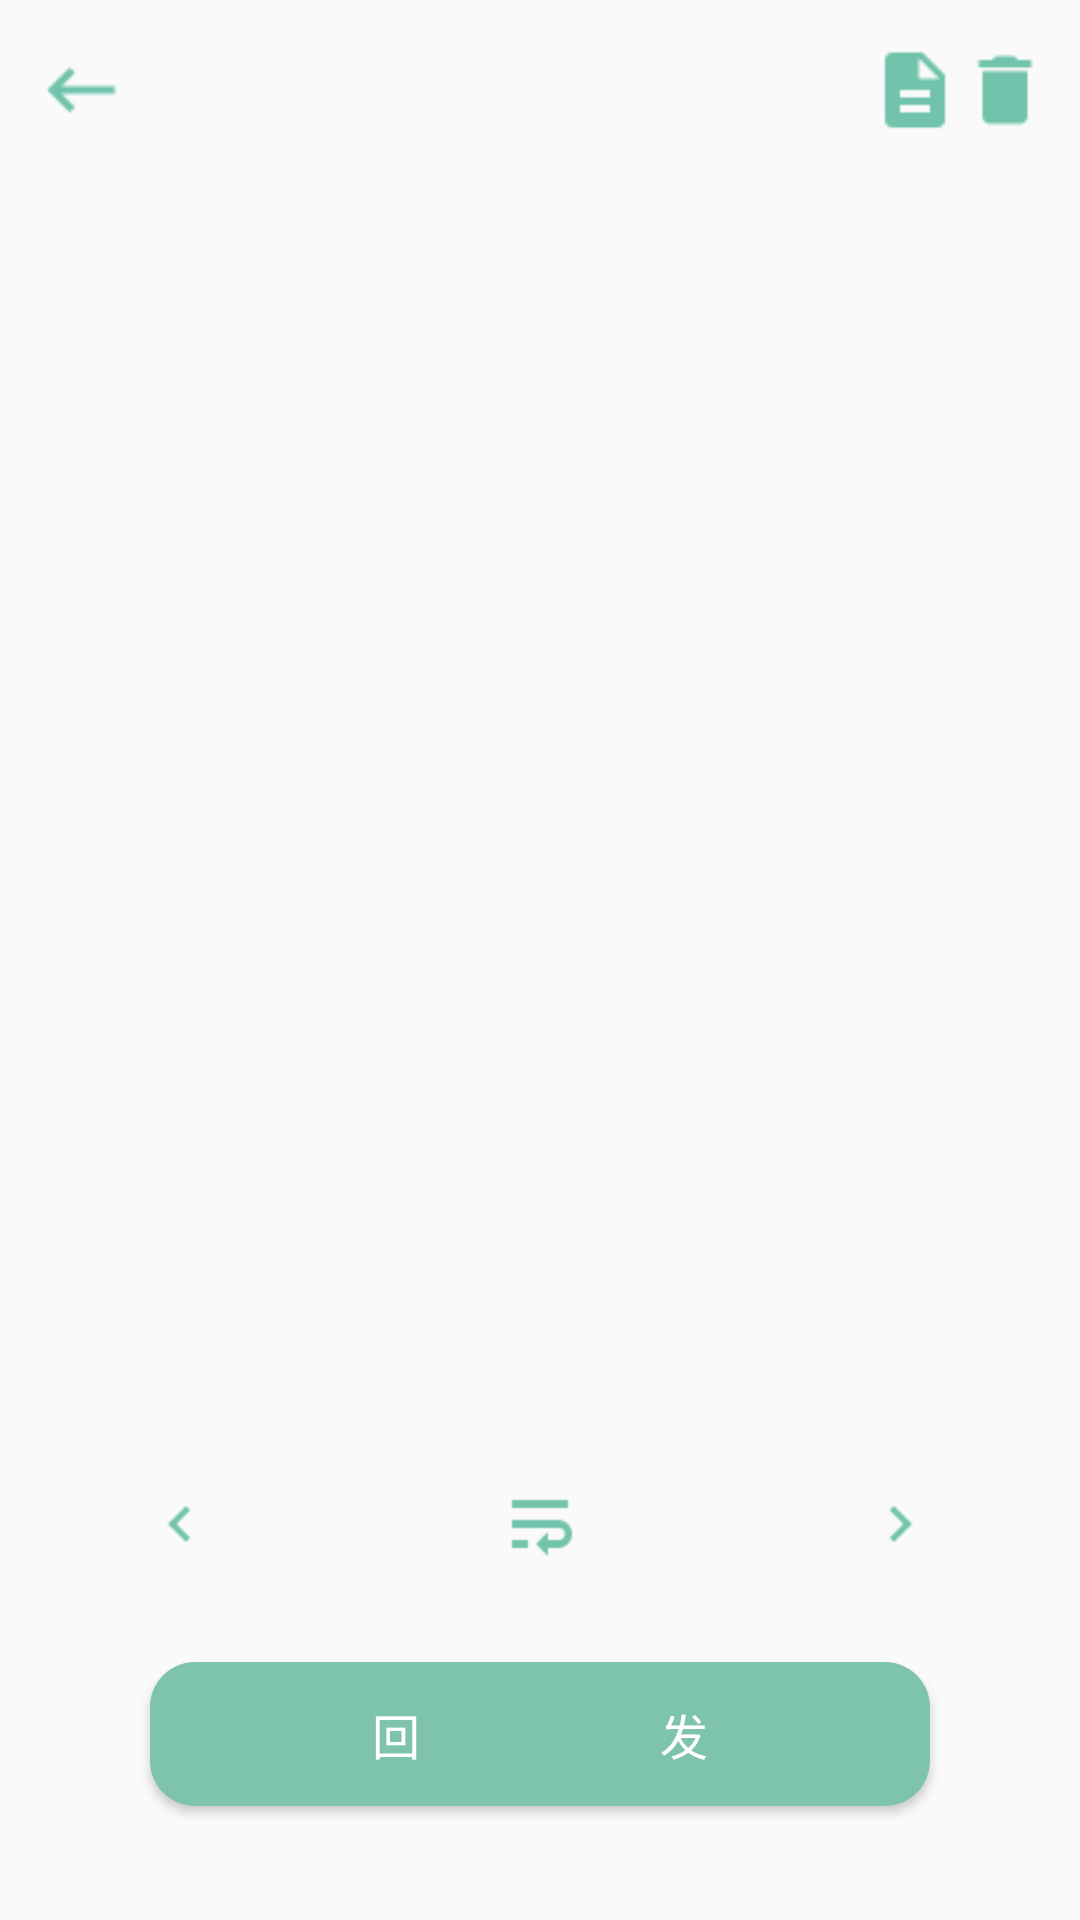

Where icons sit on this 1080 x 1920 app screen, as rect(x1, y1, x2, y2):
back: rect(47, 67, 116, 113)
left: rect(168, 1506, 190, 1542)
one show del: rect(977, 55, 1033, 125)
one show save: rect(884, 52, 946, 128)
right: rect(890, 1506, 912, 1542)
